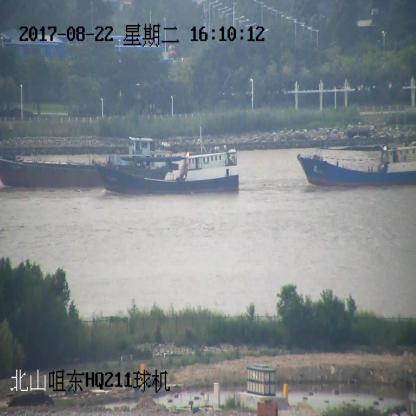Fishing Boat: (94, 134, 238, 195), (298, 144, 416, 188)
